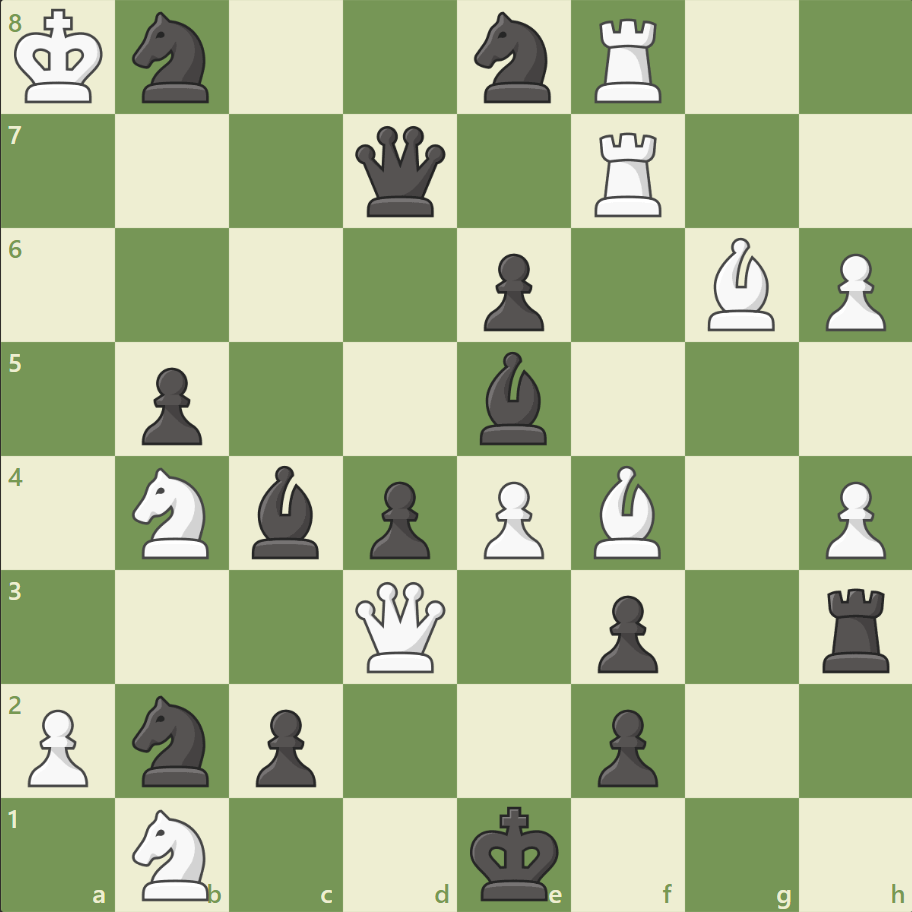B: (698, 233, 782, 336), (585, 460, 669, 563)
K: (11, 4, 111, 112)
N: (124, 461, 222, 564), (124, 802, 222, 904)
P: (474, 473, 549, 564), (20, 700, 95, 791), (815, 246, 889, 337), (815, 473, 889, 564)
Q: (351, 576, 450, 676)
R: (587, 12, 670, 109), (587, 125, 670, 222)
b: (244, 460, 328, 563), (471, 347, 555, 449)
k: (465, 798, 565, 906)
n: (124, 7, 222, 110), (124, 688, 222, 791), (465, 7, 562, 110)
p: (474, 246, 549, 337), (133, 359, 208, 450), (247, 700, 322, 791), (361, 473, 435, 564), (588, 586, 662, 677), (588, 700, 662, 791)
q: (351, 122, 450, 222)
r: (814, 579, 897, 676)
